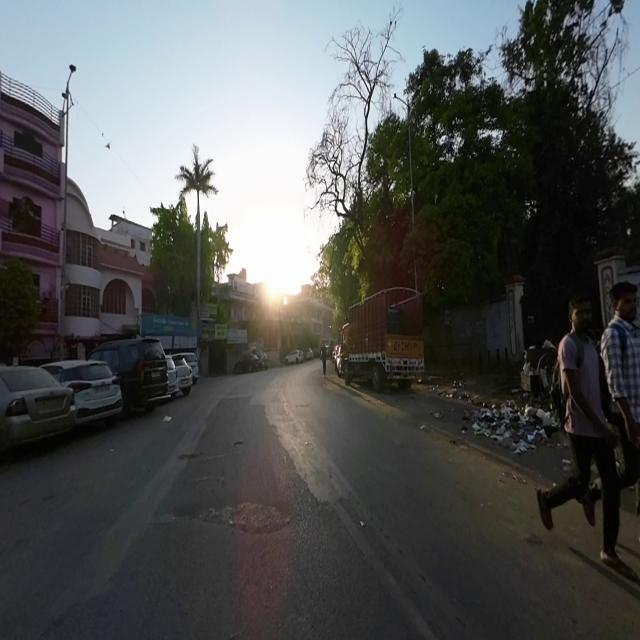Garbage: (472, 397, 550, 451), (438, 376, 471, 406)
